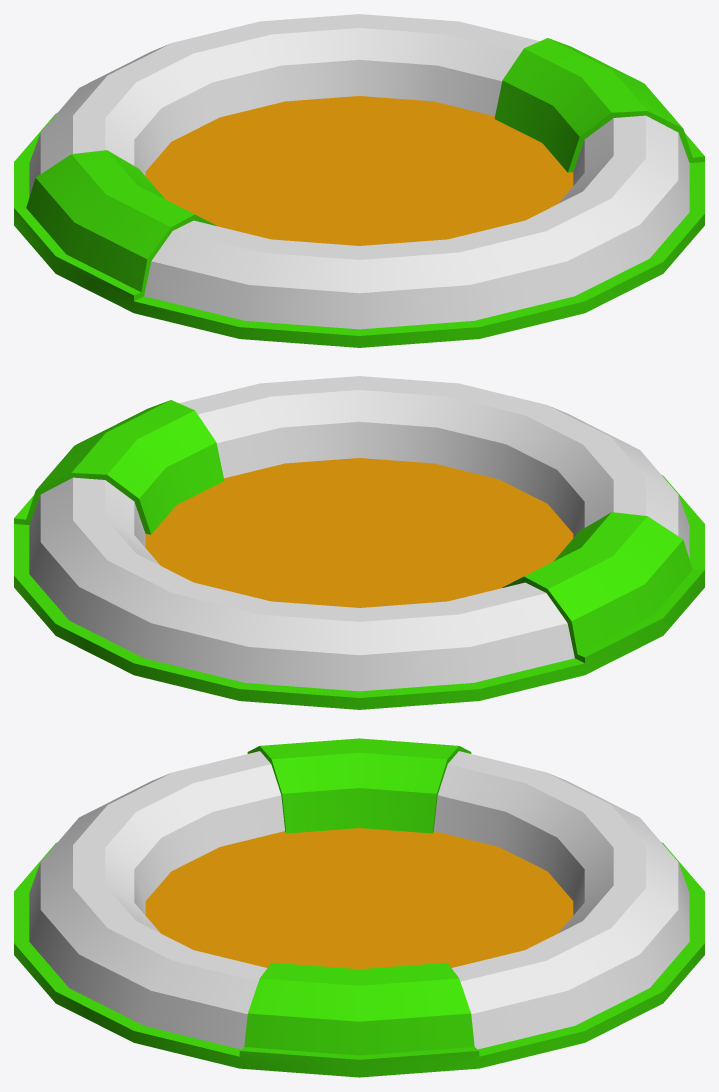
The model's file is Jumppad.fbx.
3 renders of one model, top to bottom at view 1: azimuth 30°, elevation 25°; view 2: azimuth 150°, elevation 25°; view 3: azimuth 270°, elevation 25°, orthographic.
Parts seen in each view (by area): view 1: Torus.003; view 2: Torus.003; view 3: Torus.003.
Boxes of the visible parts, bbox=[...] form: Torus.003: bbox=[14, 14, 704, 347]; Torus.003: bbox=[14, 376, 704, 709]; Torus.003: bbox=[14, 738, 704, 1077].
Size of the model in its own units: 1.77 by 0.1905 by 1.75.
